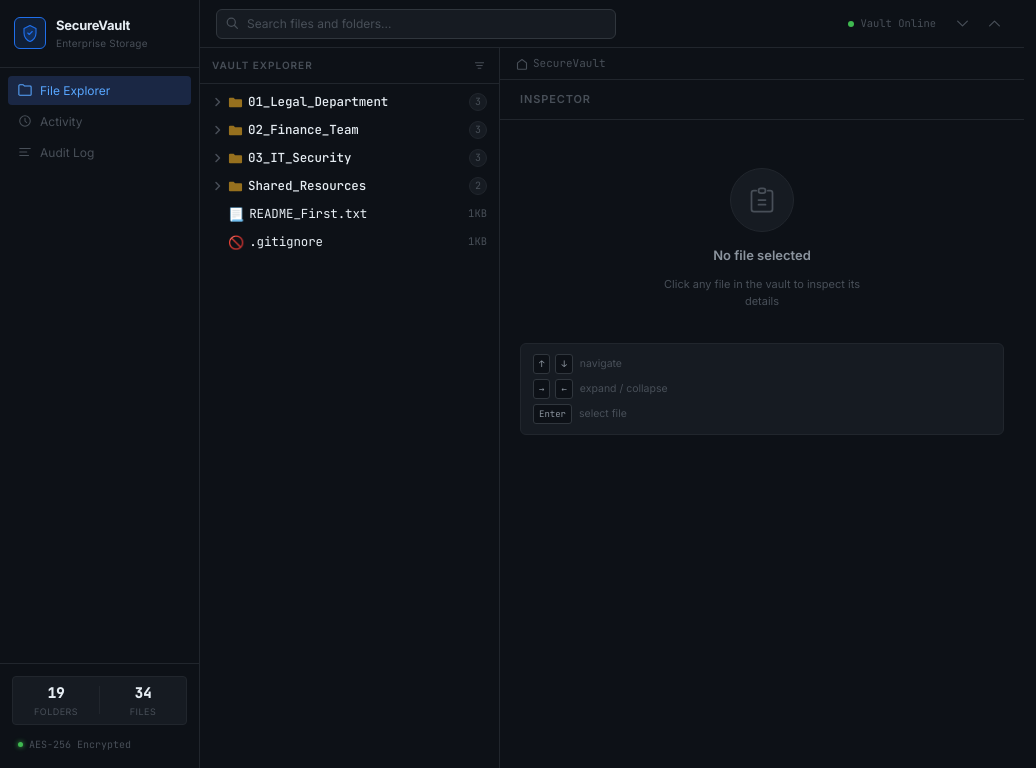
Test: SecureVault explorer interactions › copies the selected file breadcrumb path
The width and height of the screenshot is (1036, 768).
Click the text "01_Legal_Department": (318, 101) x1=248 y1=93 x2=388 y2=110
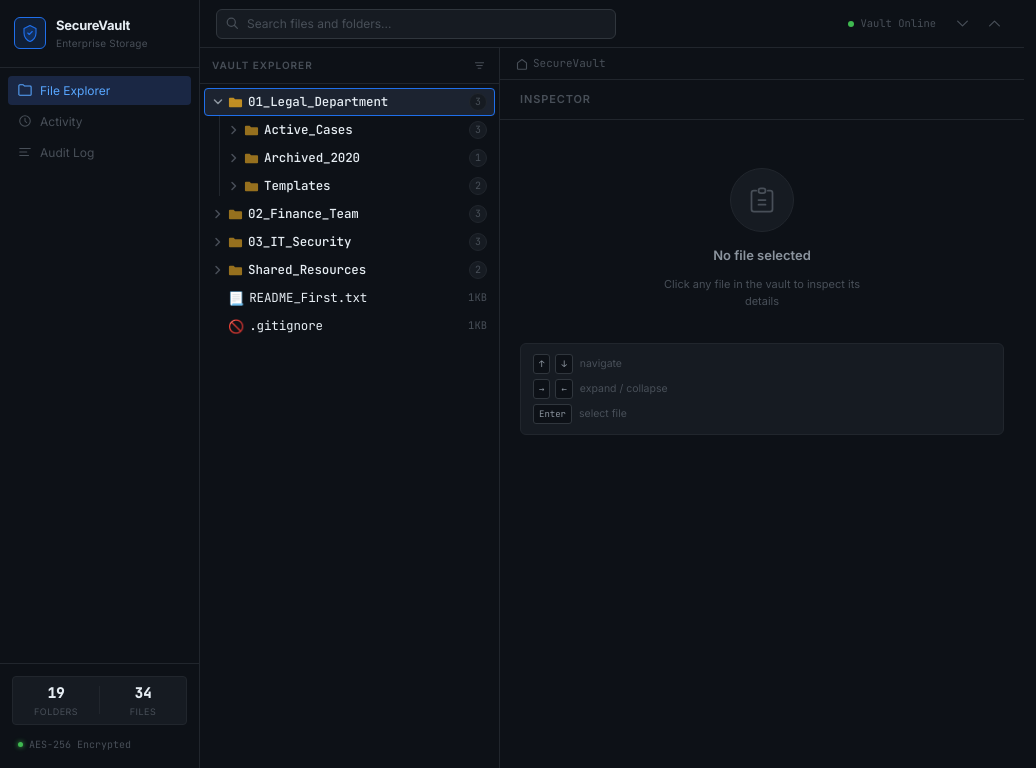
Click the text "Active_Cases": (308, 129) x1=264 y1=121 x2=352 y2=138
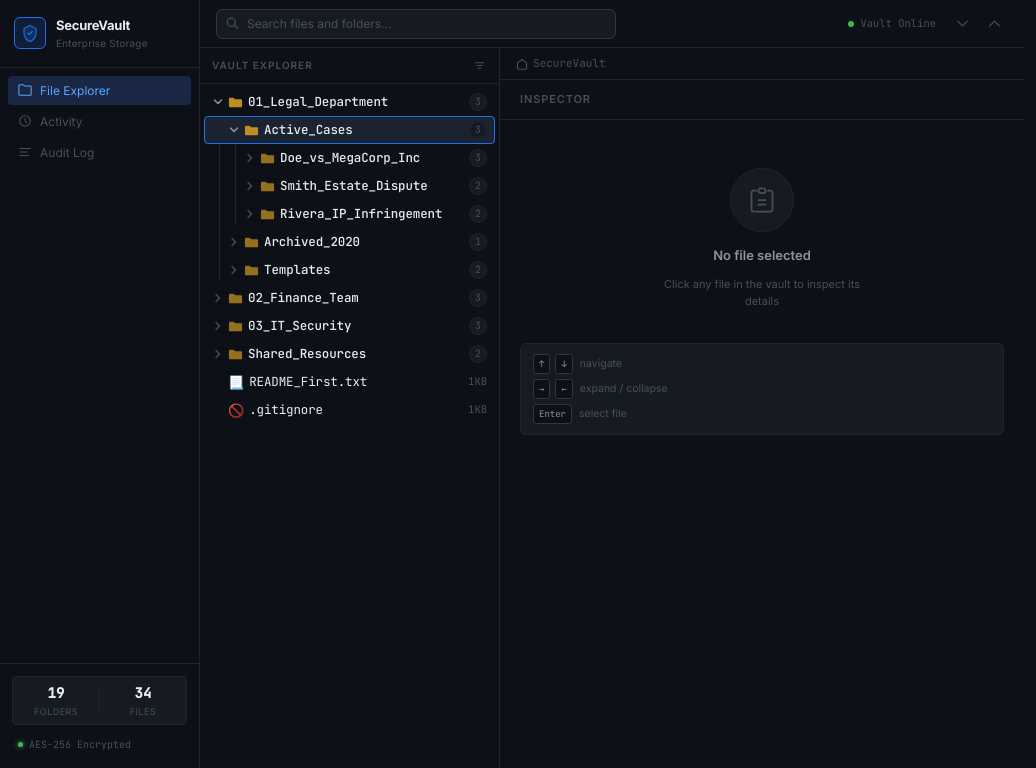
Click the text "Doe_vs_MegaCorp_Inc": (350, 157) x1=280 y1=149 x2=420 y2=166
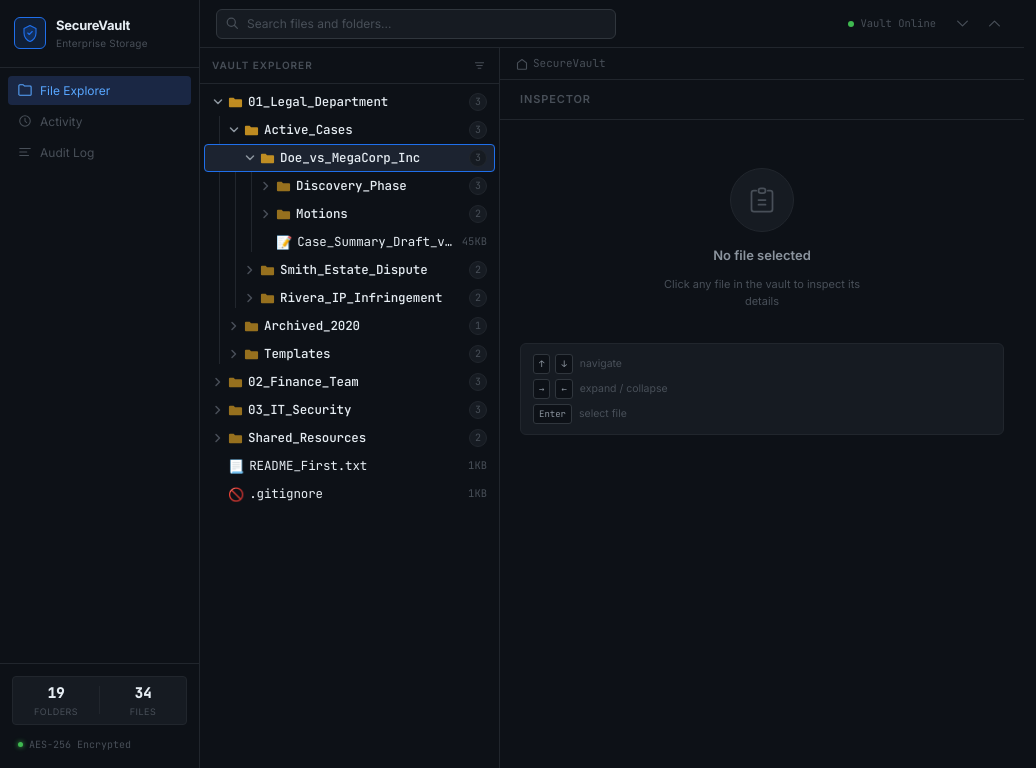
Click the text "Case_Summary_Draft_v3.docx": (377, 242) x1=297 y1=233 x2=457 y2=251
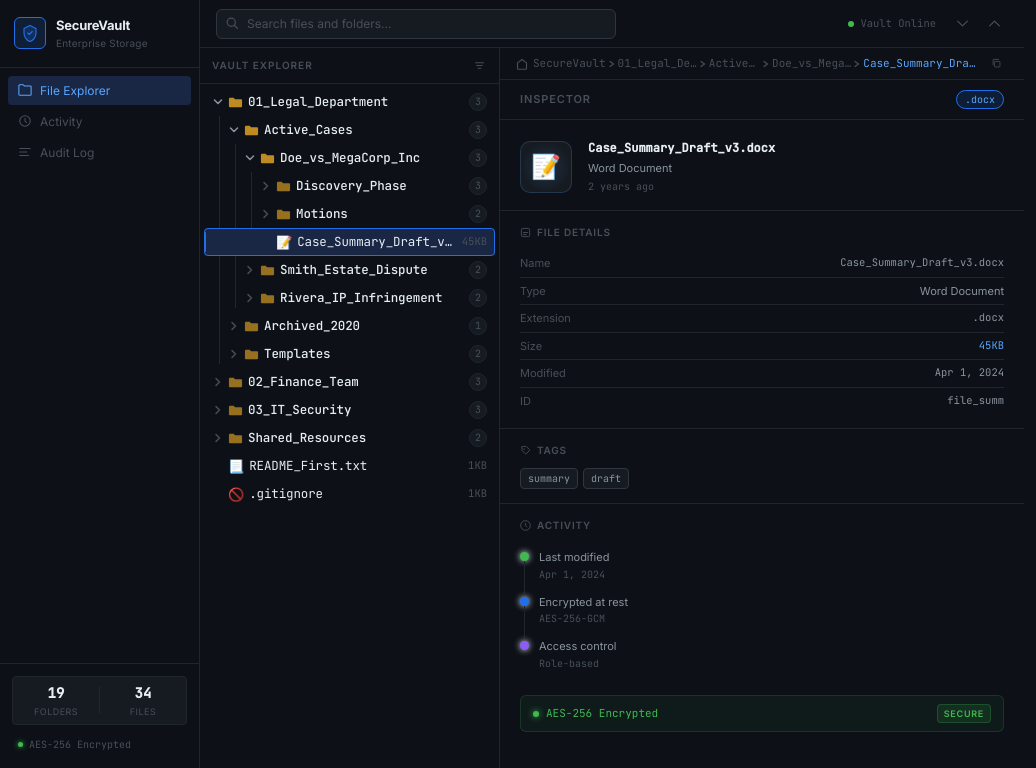
Click the button titled "Copy full path": (997, 64) x1=986 y1=52 x2=1008 y2=74
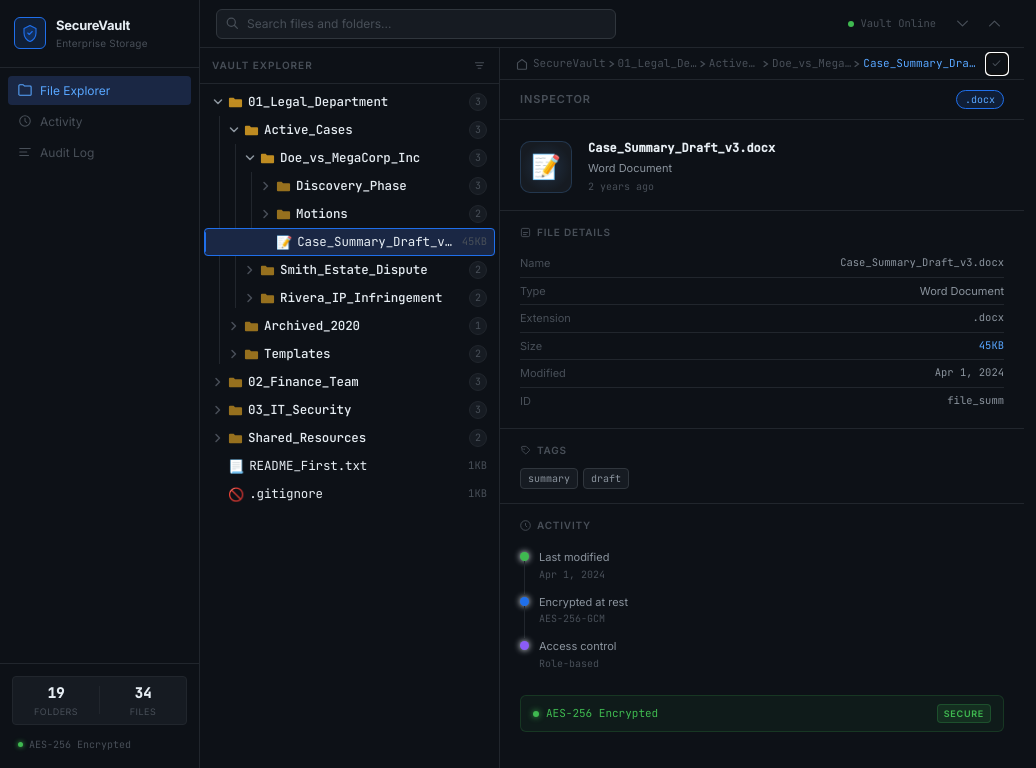
expect the button titled "Path copied" is shown: met, box x1=986 y1=52 x2=1008 y2=74
